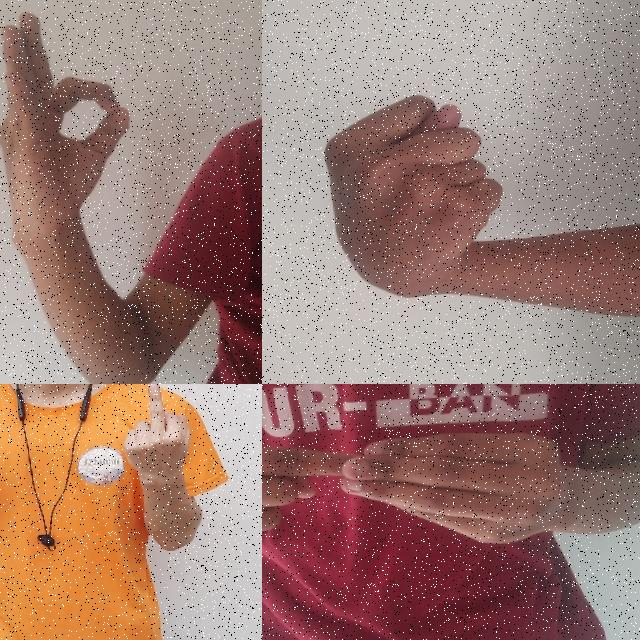Dulya: (316, 84, 516, 318)
Five Fathers: (262, 407, 589, 590)
Middle Finger: (111, 384, 200, 494)
Okay: (0, 0, 146, 268)
